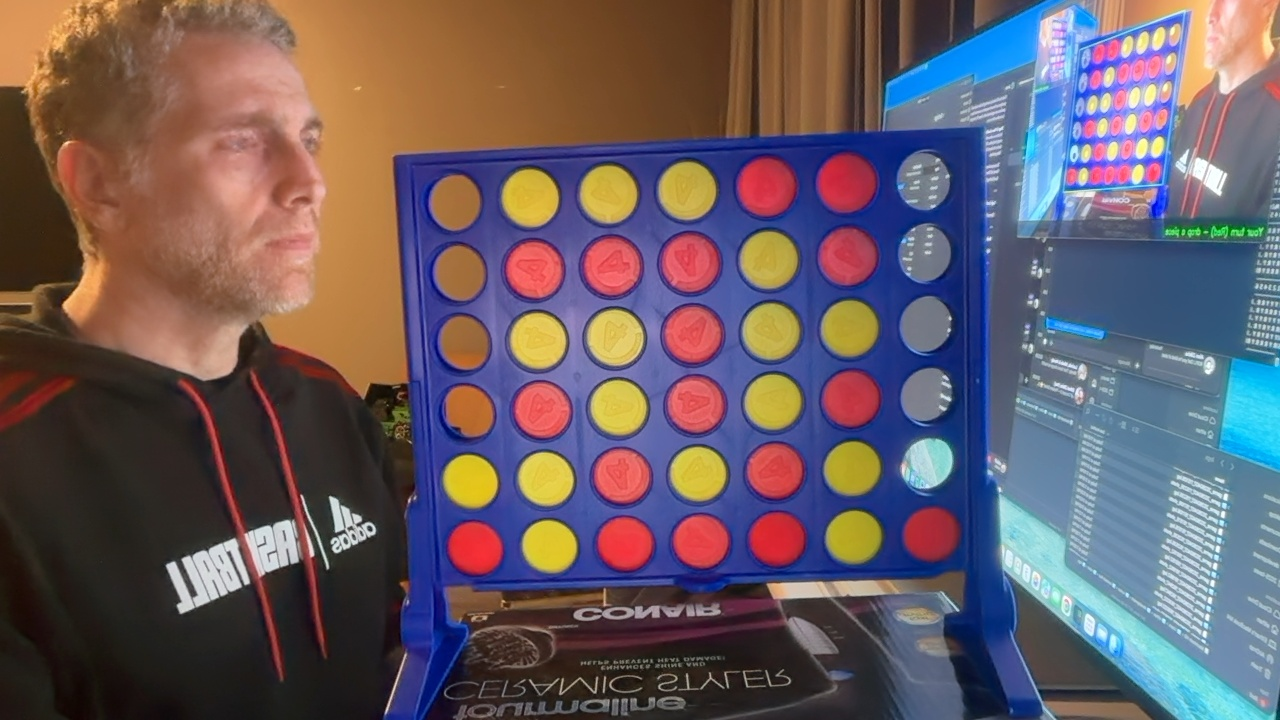red piece: (659, 232, 721, 294), (736, 156, 797, 217), (817, 151, 877, 213), (663, 304, 723, 365), (504, 240, 564, 300), (818, 226, 878, 286), (582, 236, 641, 297), (666, 375, 725, 434), (513, 381, 571, 440), (821, 370, 880, 428), (746, 442, 804, 500), (592, 448, 651, 505), (748, 511, 806, 567), (596, 517, 654, 572), (672, 514, 729, 569), (903, 507, 960, 562), (447, 521, 503, 575)
yellow piece: (739, 229, 798, 290), (658, 160, 717, 221), (586, 308, 645, 368), (588, 378, 648, 437), (501, 167, 559, 228), (579, 163, 637, 224), (820, 299, 879, 358), (742, 302, 801, 361), (509, 311, 567, 370), (743, 373, 803, 430), (669, 446, 727, 502), (823, 441, 882, 496), (517, 451, 574, 507), (442, 453, 498, 509), (825, 510, 883, 564), (521, 520, 577, 573), (1150, 136, 1165, 159)
